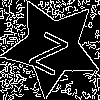Z: (27, 22, 75, 76)
